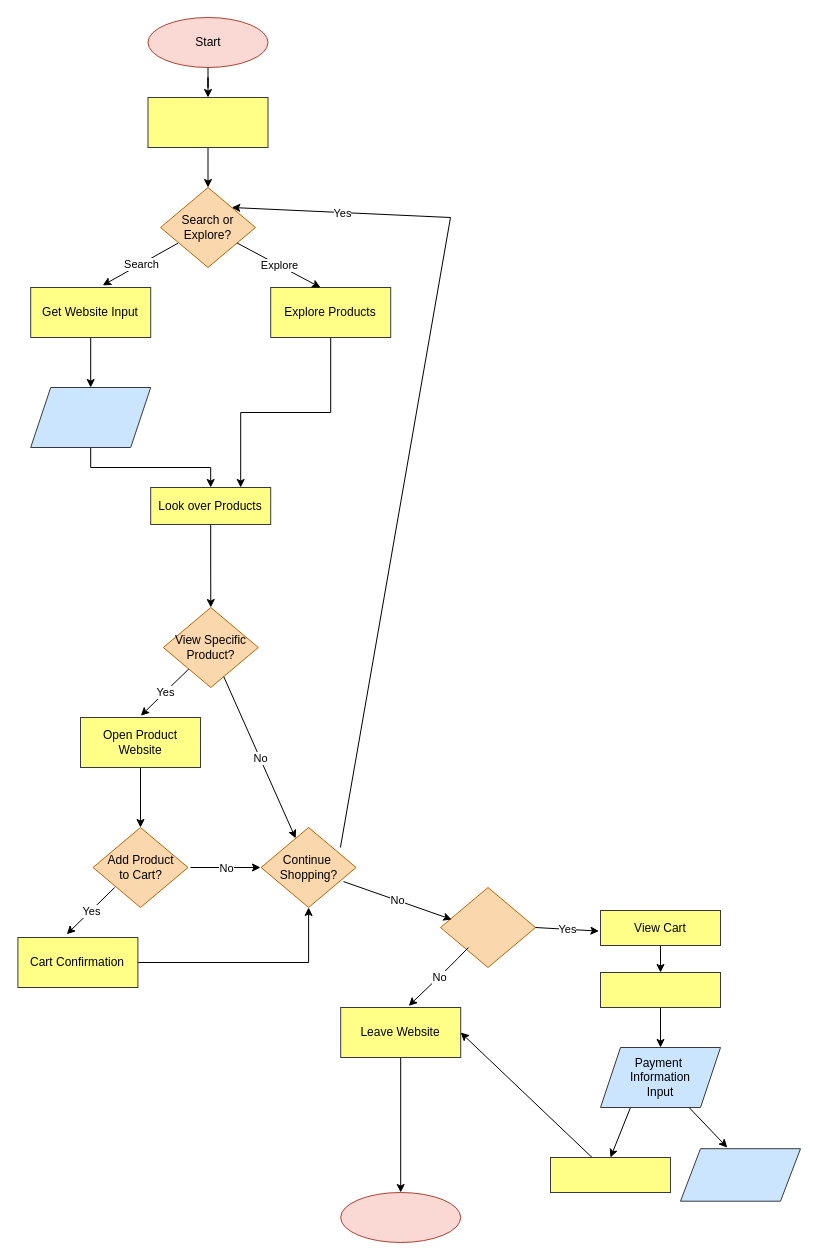
The diagram is 818 pixels wide and 1260 high, and some of its shapes have lost their labels. The centre of each missing label's shape, as x and y in pixels:
"Checkout?" goes at pixel 488 927.
"Email Confirmation" goes at pixel 740 1174.
"End" goes at pixel 400 1217.
"Enter Website (Home Page)" goes at pixel 207 122.
"Order Confirmation" goes at pixel 610 1174.
"View Payment" goes at pixel 660 990.
"Website Input" goes at pixel 90 417.
